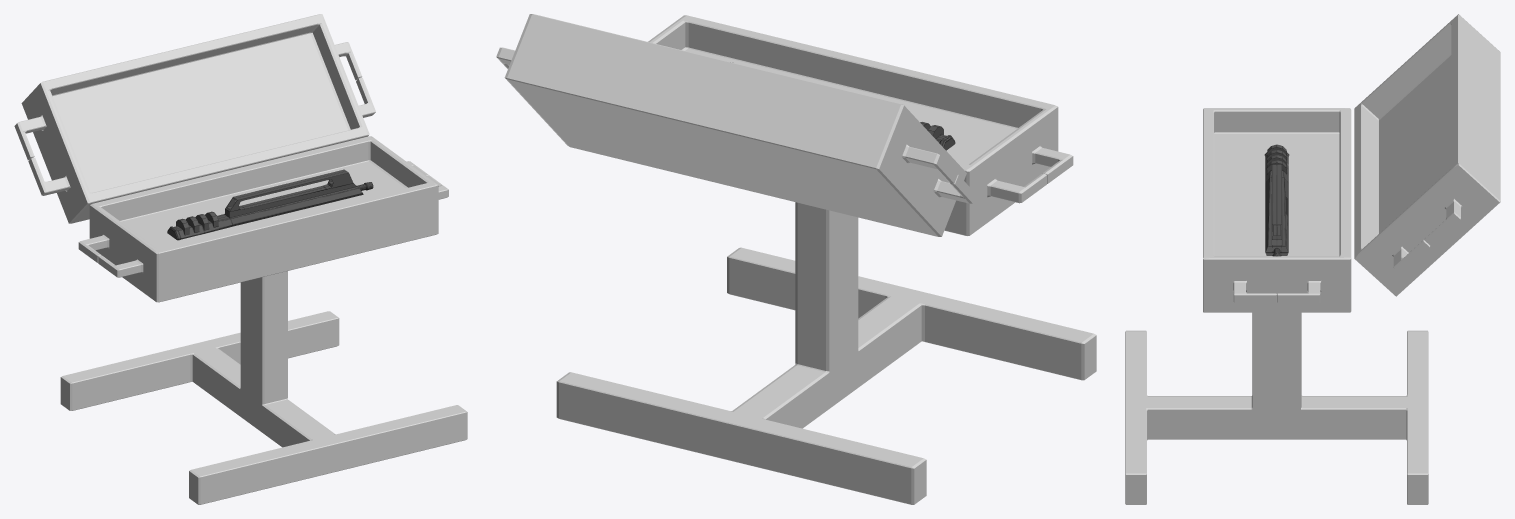
File: weaponBox.fbx
The picture shows the model from 3 angles, left to right: view 1: azimuth 30°, elevation 25°; view 2: azimuth 150°, elevation 25°; view 3: azimuth 270°, elevation 25°; orthographic projection. The views are drawn at different scales.
Visible parts, largest first — view 1: Cube.002, Cube.003, weapon01; view 2: Cube.002, Cube.003; view 3: Cube.002, Cube.003, weapon01.
Part boxes in pixels (x1,y1,x2,y2): Cube.002: [60, 136, 467, 504]; Cube.003: [14, 14, 375, 223]; weapon01: [167, 169, 373, 240]; Cube.002: [556, 15, 1096, 504]; Cube.003: [496, 14, 976, 236]; Cube.002: [1125, 108, 1428, 504]; Cube.003: [1354, 14, 1500, 296]; weapon01: [1264, 144, 1289, 256].
Bounding box in the file's own units: 816 × 737 × 728.
